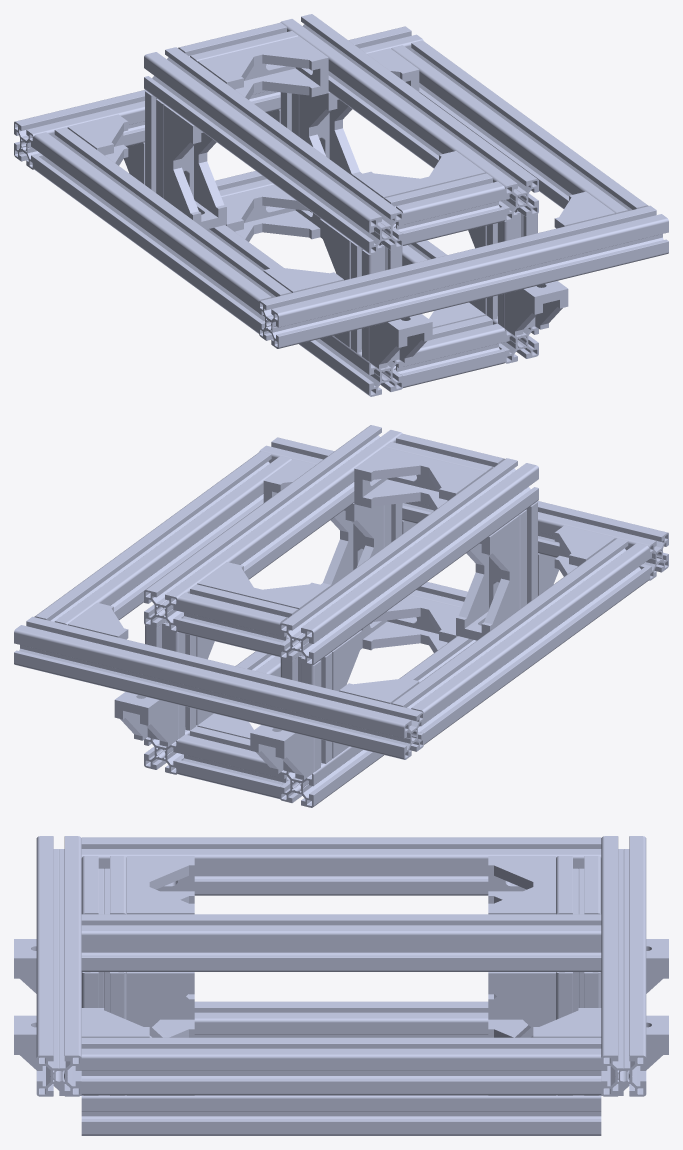
File: chassis-expanded-concept.glb
3 views of the same model, one above another, from view 1: azimuth 30°, elevation 25°; view 2: azimuth 150°, elevation 25°; view 3: azimuth 270°, elevation 25° (orthographic). The views are drawn at different scales.
Parts seen in each view (by area): view 1: 40x40_0.8_ProfileBeam-7, 40x40_0.8_ProfileBeam-4, 40x40_0.8_ProfileBeam-8, 40x40_0.8_ProfileBeam-3, 40x40_0.8_ProfileBeam-6, 40x40_0.5_ProfileBeam-7, 40x40_0.8_ProfileBeam-5, 40x40_0.5_ProfileBeam-1, 40x40_0.8_ProfileBeam-2, Bracket_V1-15, Bracket_V1-7, Bracket_V1-11 (+23 smaller); view 2: 40x40_0.8_ProfileBeam-5, 40x40_0.8_ProfileBeam-4, 40x40_0.8_ProfileBeam-8, 40x40_0.8_ProfileBeam-3, 40x40_0.8_ProfileBeam-6, 40x40_0.5_ProfileBeam-8, 40x40_0.8_ProfileBeam-7, 40x40_0.5_ProfileBeam-2, 40x40_0.8_ProfileBeam-2, Bracket_V1-13, Bracket_V1-5, Bracket_V1-9 (+23 smaller); view 3: 40x40_0.8_ProfileBeam-6, 40x40_0.8_ProfileBeam-3, 40x40_0.8_ProfileBeam-4, 40x40_0.8_ProfileBeam-1, 40x40_0.8_ProfileBeam-7, 40x40_0.8_ProfileBeam-5, 40x40_0.8_ProfileBeam-2, Bracket_V1-2, Bracket_V1-4, 40x40_0.5_ProfileBeam-8, 40x40_0.5_ProfileBeam-7, Bracket_V1-14 (+16 smaller).
Part boxes in pixels (box(x1,y1,x2,y2)): 40x40_0.8_ProfileBeam-7: box(259, 205, 668, 348); 40x40_0.8_ProfileBeam-4: box(144, 47, 403, 254); 40x40_0.8_ProfileBeam-8: box(33, 127, 291, 333); 40x40_0.8_ProfileBeam-3: box(280, 14, 538, 221); 40x40_0.8_ProfileBeam-6: box(391, 40, 648, 213); 40x40_0.5_ProfileBeam-7: box(384, 173, 504, 245); 40x40_0.8_ProfileBeam-5: box(14, 26, 423, 169); 40x40_0.5_ProfileBeam-1: box(393, 315, 504, 387); 40x40_0.8_ProfileBeam-2: box(206, 225, 403, 396); Bracket_V1-15: box(248, 36, 328, 96); Bracket_V1-7: box(163, 155, 226, 229); Bracket_V1-11: box(249, 184, 321, 239); 40x40_0.8_ProfileBeam-5: box(14, 616, 423, 759); 40x40_0.8_ProfileBeam-4: box(279, 458, 538, 665); 40x40_0.8_ProfileBeam-8: box(391, 538, 649, 744); 40x40_0.8_ProfileBeam-3: box(144, 425, 402, 632); 40x40_0.8_ProfileBeam-6: box(34, 451, 291, 624); 40x40_0.5_ProfileBeam-8: box(178, 584, 298, 656); 40x40_0.8_ProfileBeam-7: box(259, 437, 668, 580); 40x40_0.5_ProfileBeam-2: box(178, 726, 289, 798); 40x40_0.8_ProfileBeam-2: box(279, 636, 476, 807); Bracket_V1-13: box(354, 447, 434, 507); Bracket_V1-5: box(456, 566, 519, 640); Bracket_V1-9: box(361, 595, 433, 650); 40x40_0.8_ProfileBeam-6: box(81, 1037, 601, 1095); 40x40_0.8_ProfileBeam-3: box(81, 914, 601, 971); 40x40_0.8_ProfileBeam-4: box(81, 838, 601, 895); 40x40_0.8_ProfileBeam-1: box(81, 1095, 601, 1135); 40x40_0.8_ProfileBeam-7: box(36, 836, 81, 1096); 40x40_0.8_ProfileBeam-5: box(601, 836, 646, 1096); 40x40_0.8_ProfileBeam-2: box(194, 1001, 488, 1037); Bracket_V1-2: box(127, 972, 194, 1028); Bracket_V1-4: box(488, 972, 555, 1028); 40x40_0.5_ProfileBeam-8: box(556, 856, 601, 914); 40x40_0.5_ProfileBeam-7: box(81, 856, 126, 914); Bracket_V1-14: box(127, 856, 194, 903).
Size of the model in its own units: 0.46 by 0.2 by 0.58.
